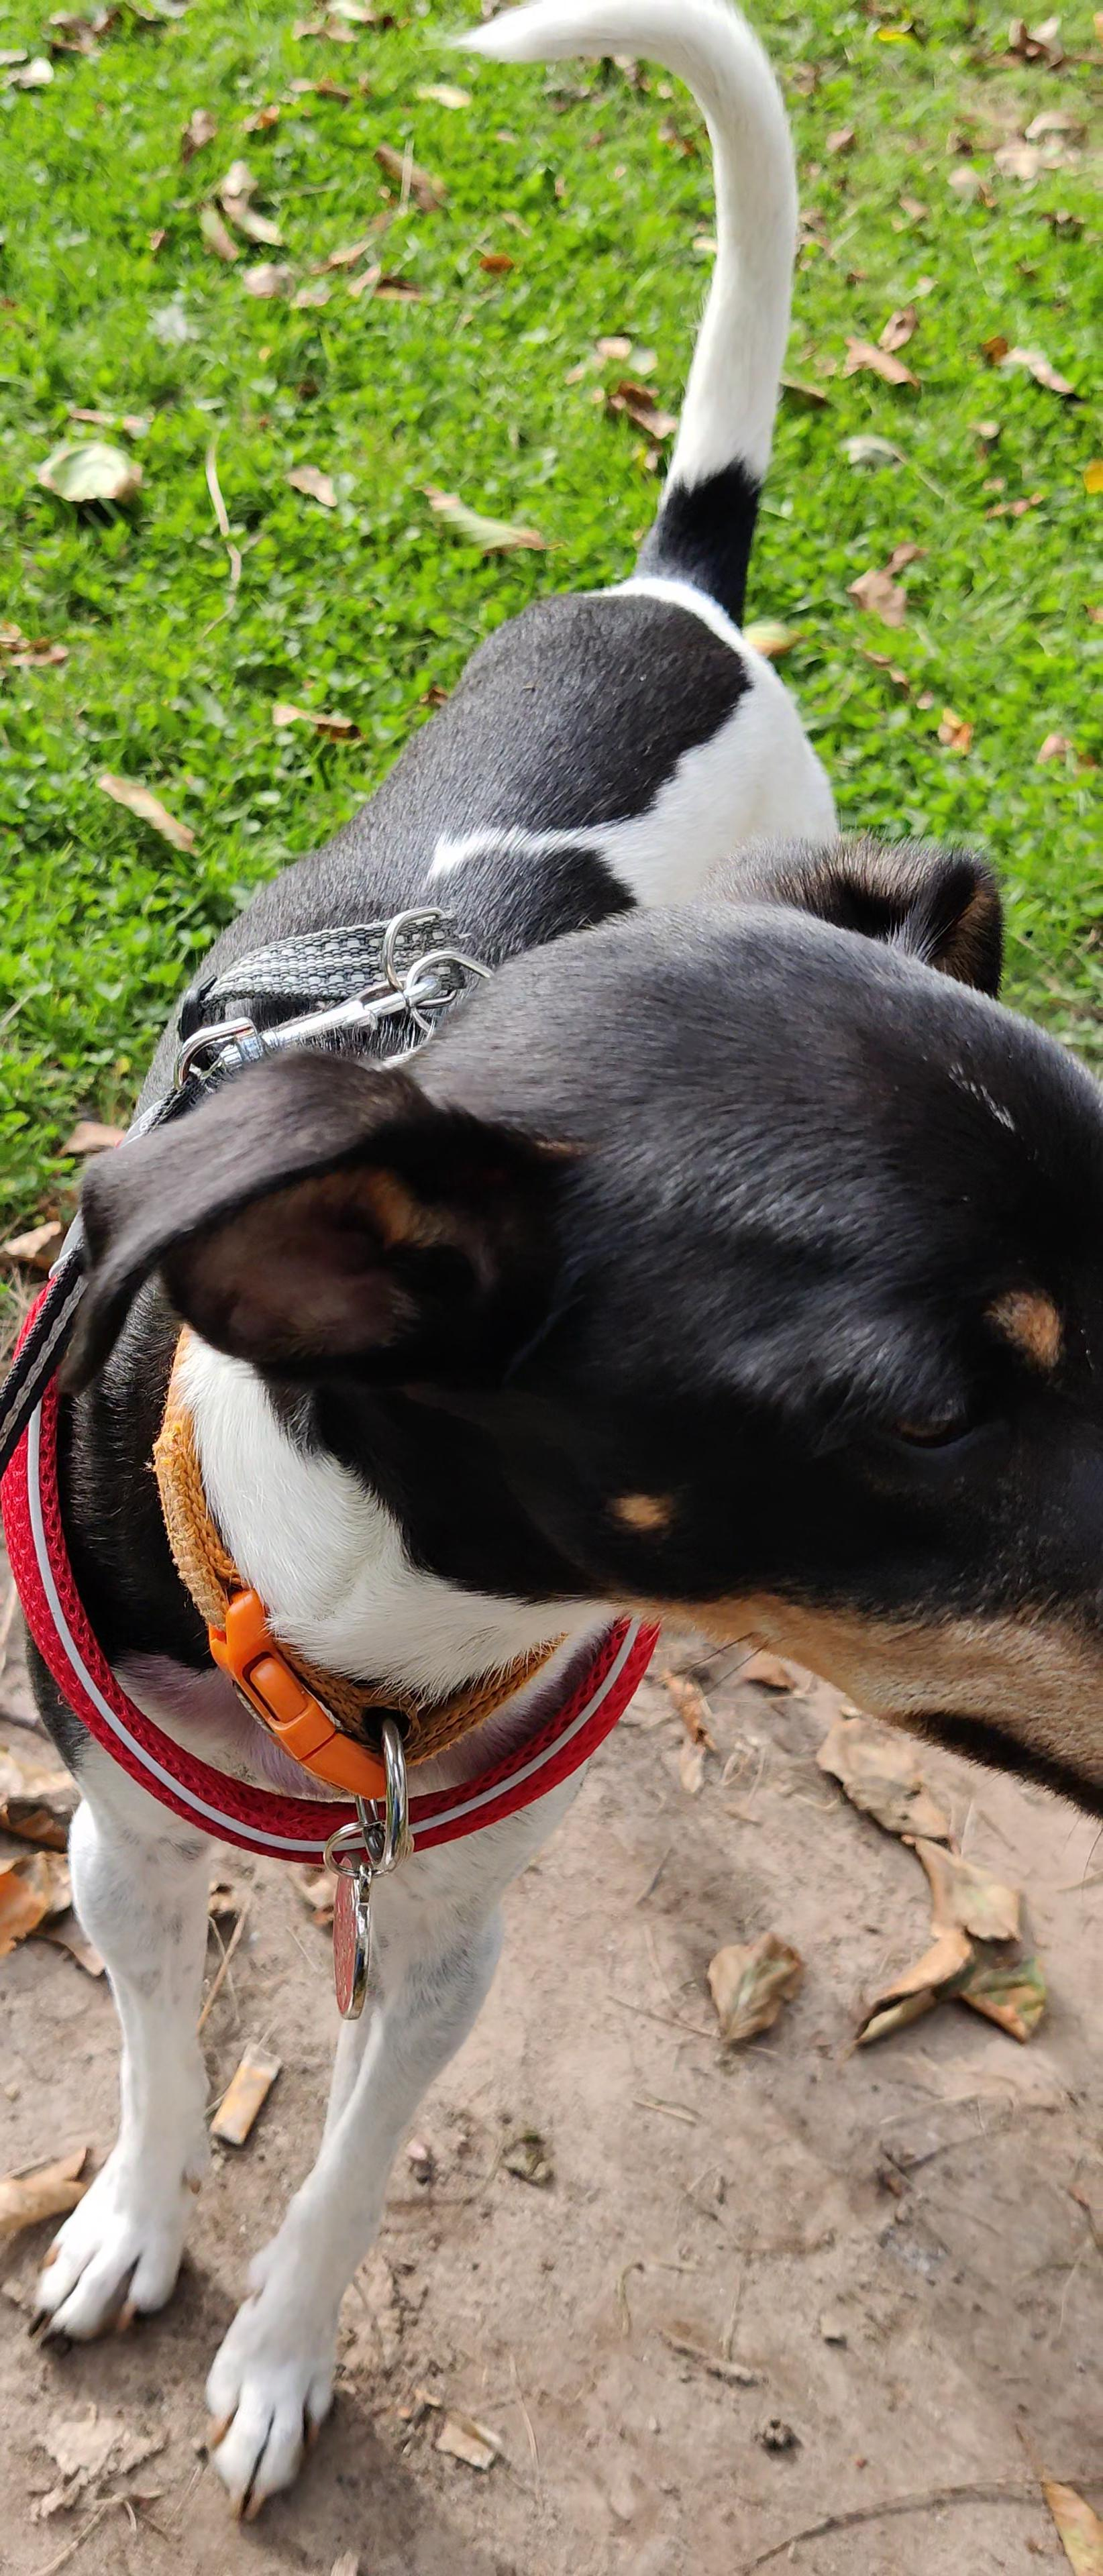Dog: (0, 0, 1103, 2545)
